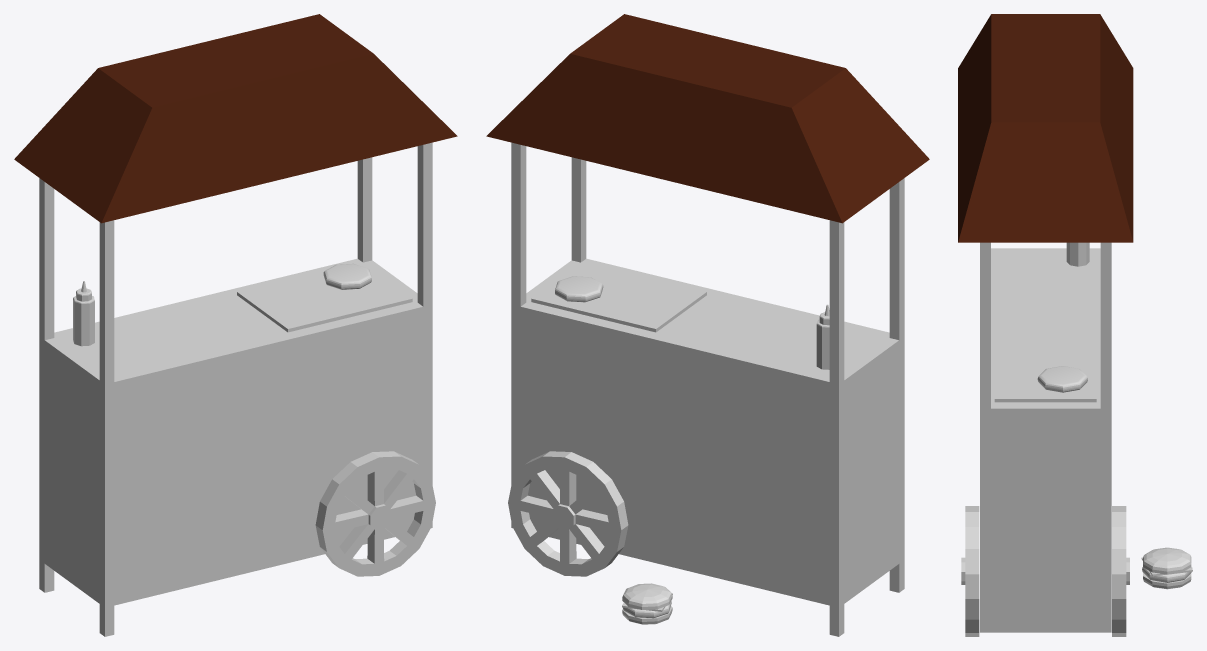
The model's file is BurgerStand.fbx.
3 views of the same model, side by side, from view 1: azimuth 30°, elevation 25°; view 2: azimuth 150°, elevation 25°; view 3: azimuth 270°, elevation 25° (orthographic).
Visible parts, largest first — view 1: BurgerStand, BurgerStand_Top, BurgerStand_Wheel002, BurgerStand_Bottle, BurgerStand_Patty; view 2: BurgerStand, BurgerStand_Top, BurgerStand_Wheel001, Cylinder008, BurgerStand_Patty, BurgerStand_Bottle; view 3: BurgerStand, BurgerStand_Top, BurgerStand_Wheel002, BurgerStand_Wheel001, Cylinder008, BurgerStand_Patty, BurgerStand_Bottle, Cylinder006, Cylinder007.
Boxes of the visible parts, x1,y1,x2,y2 form: BurgerStand: (39,142,432,636); BurgerStand_Top: (14,14,457,223); BurgerStand_Wheel002: (315,451,435,576); BurgerStand_Bottle: (73,281,94,346); BurgerStand_Patty: (323,263,371,289); BurgerStand: (511,142,904,636); BurgerStand_Top: (486,14,929,223); BurgerStand_Wheel001: (508,451,628,576); Cylinder008: (622,583,672,609); BurgerStand_Patty: (555,276,603,302); BurgerStand_Bottle: (816,304,829,369); BurgerStand: (980,242,1111,632); BurgerStand_Top: (958,14,1133,242); BurgerStand_Wheel002: (961,506,979,636); BurgerStand_Wheel001: (1112,506,1129,636); Cylinder008: (1143,547,1191,574); BurgerStand_Patty: (1037,366,1087,392); BurgerStand_Bottle: (1066,242,1089,266); Cylinder006: (1143,573,1191,589); Cylinder007: (1142,567,1192,582).
Bounding box in the file's own units: 1088 × 1493 × 619.
